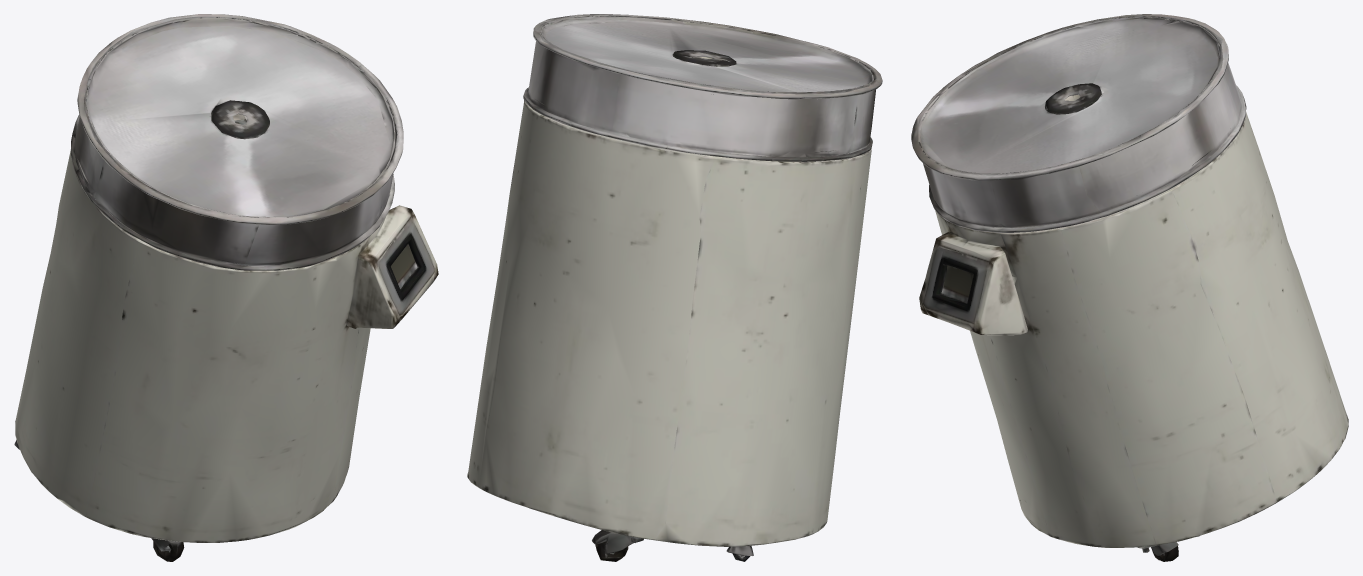
Rendered from centrifuge.glb.
The picture shows the model from 3 angles, left to right: view 1: azimuth 30°, elevation 25°; view 2: azimuth 150°, elevation 25°; view 3: azimuth 270°, elevation 25°; orthographic projection. The views are drawn at different scales.
Size of the model in its own units: 0.6238 by 0.9224 by 0.7814.
1 material, 1 textured.
